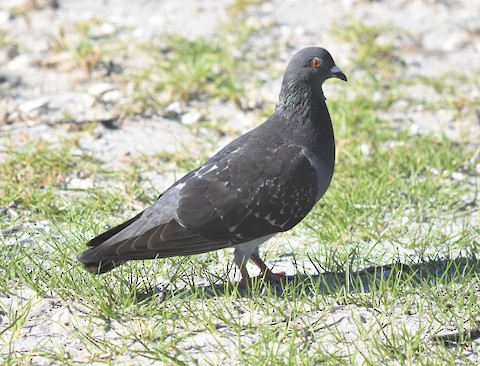pigeon: (73, 40, 352, 296)
